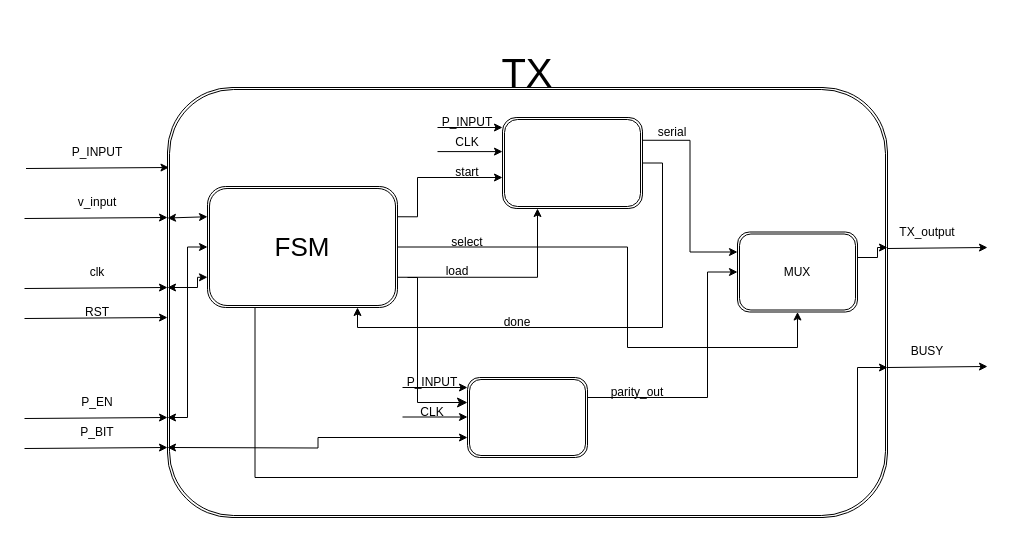
The diagram is 1013 pixels wide and 535 high, and some of its shapes have lost their labels. The shapes that lost their labels are listed below. From the top down, each one's box as (x1, y1, x2, y2) in pixels, then its label:
(502, 116, 642, 208): Serializer
(466, 376, 588, 458): Parity bit calc
